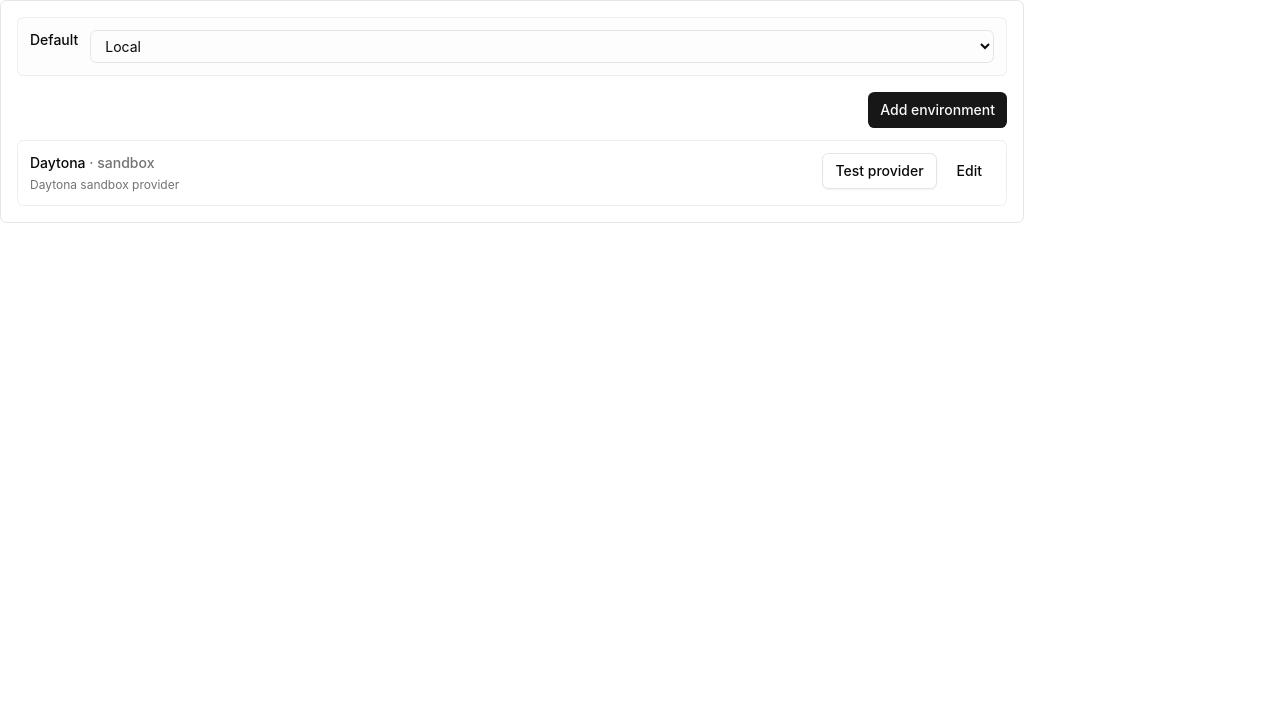
Test case: CompanyEnvironments — test provider button › opens an embedded browser terminal automatically while preserving the SSH command fallback
Click the link "Edit" at (969, 170), box [957,162,982,179]
(page scrolled)
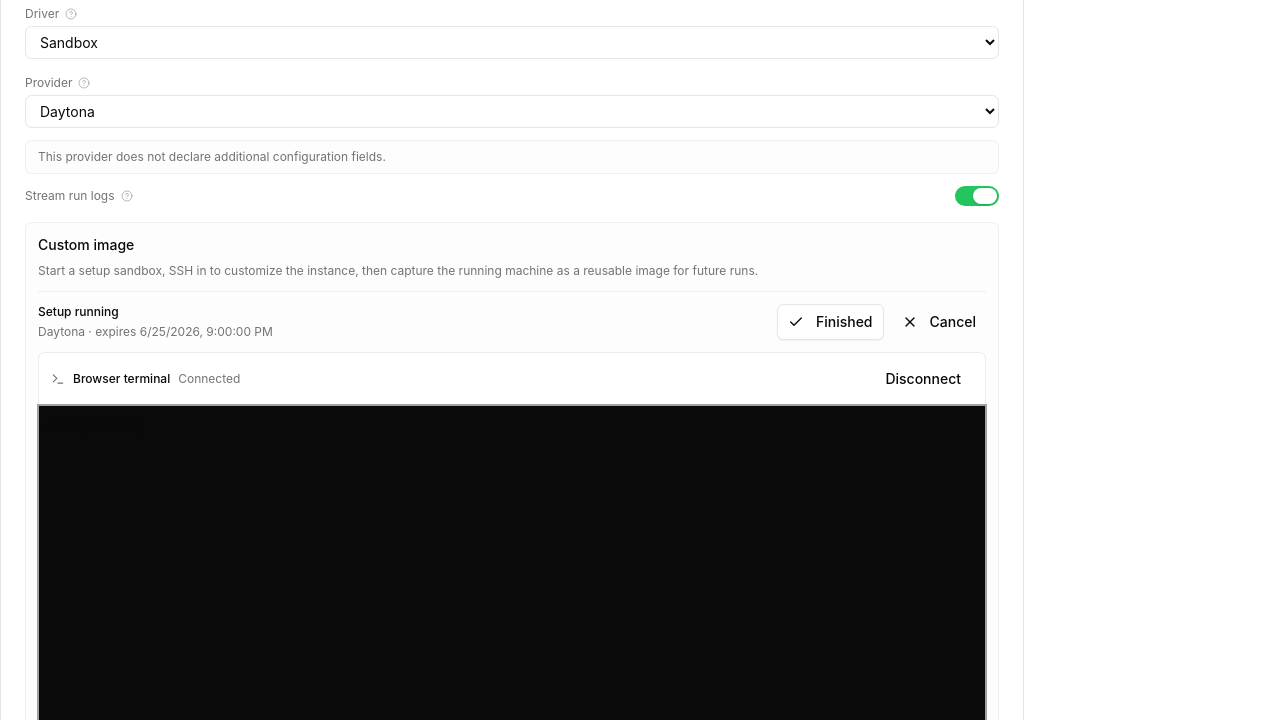
Now the element with test id "environment-form-page" shows "Browser terminal", box [73,371,170,386]
